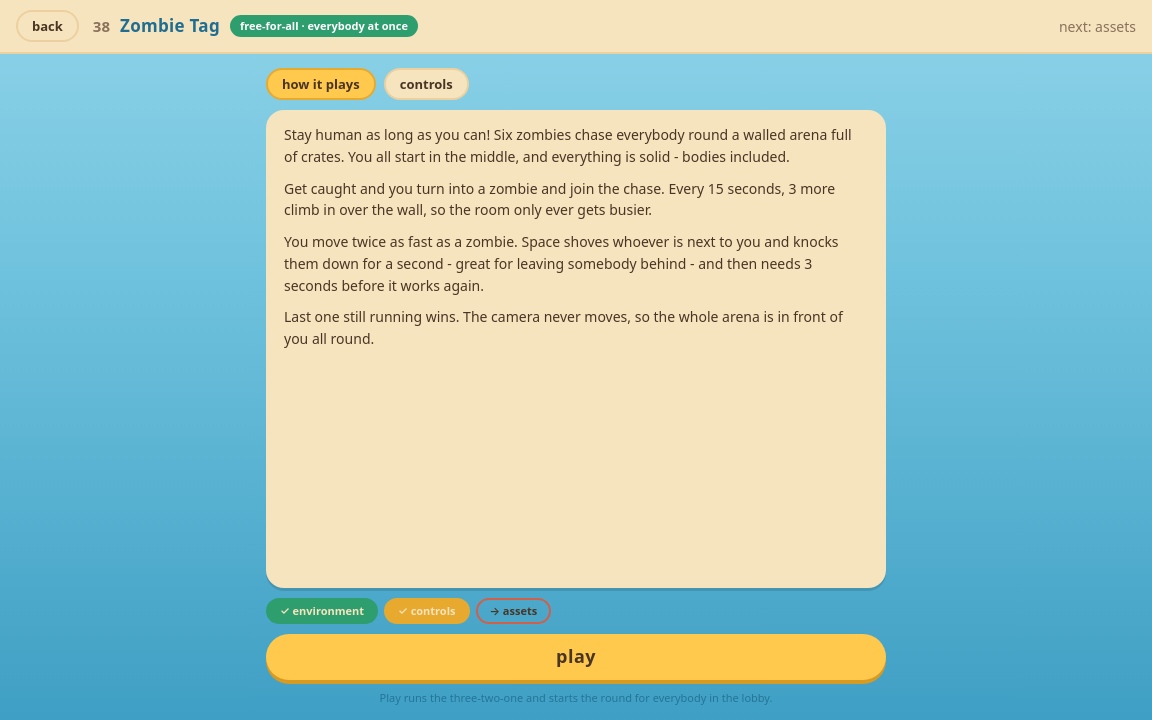
a game briefing › shows how it plays first, and flips to the controls and back
This screenshot has width=1152, height=720.
Click the button "controls". click: (426, 84)
box: left=384, top=68, right=469, bottom=100
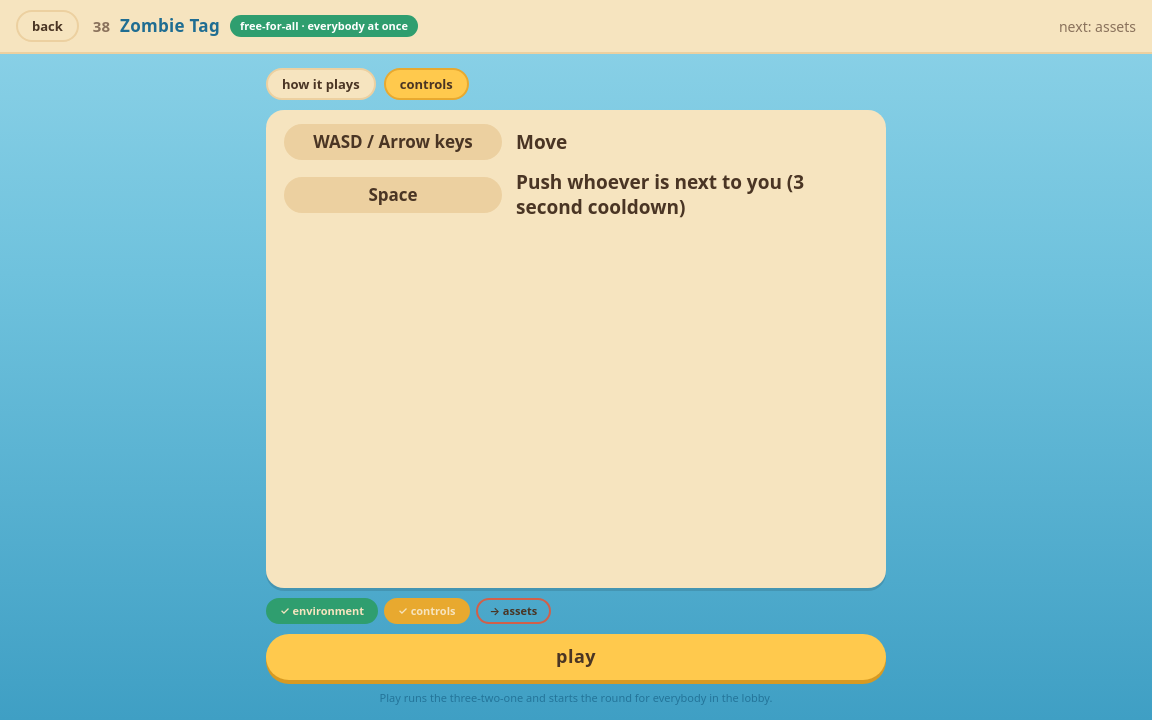
Check: the element showing "WASD / Arrow keys Move" is shown, box left=284, top=124, right=567, bottom=160
Check: the element showing "Space Push whoever is next to you (3 second cooldown)" is shown, box left=284, top=170, right=868, bottom=220
Check: the text "Stay human as long as you can! Six zombies chase everybody round a walled arena full of crates. You all start in the middle, and everything is solid - bodies in" is gone
Click the button "how it plays". click: (321, 84)
box: left=266, top=68, right=376, bottom=100
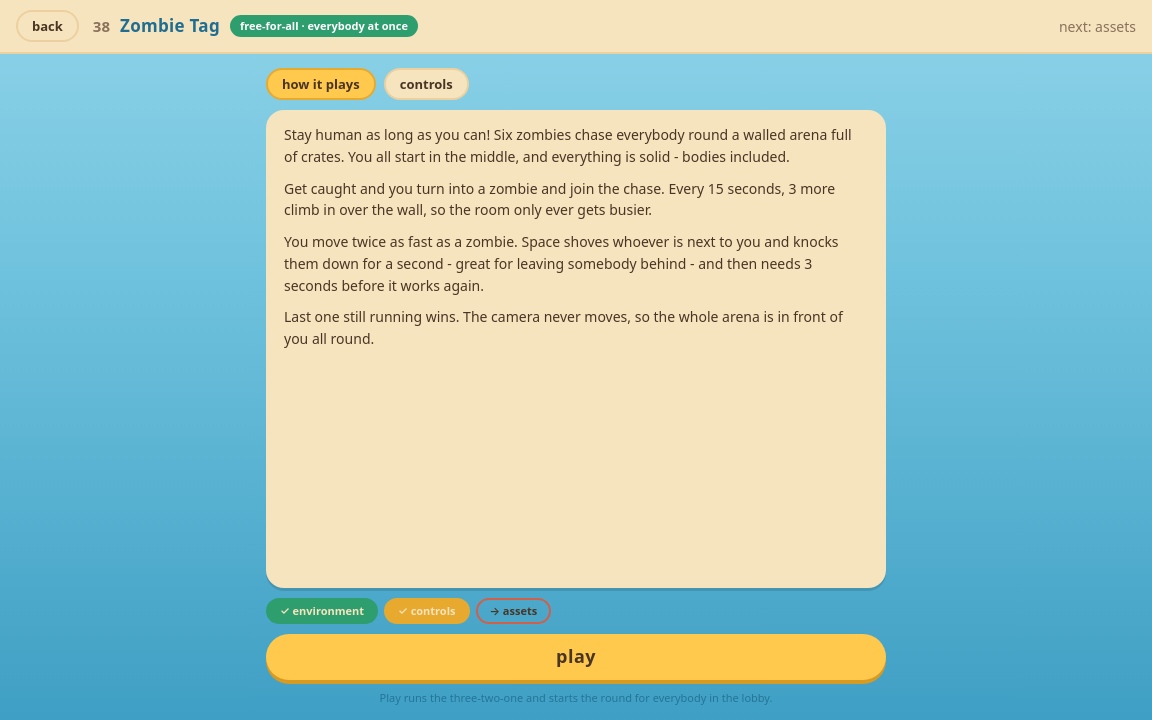
Check: the text "Stay human as long as you can! Six zombies chase everybody round a walled arena full of crates. You all start in the middle, and everything is solid - bodies in" is shown, box left=284, top=125, right=852, bottom=166
